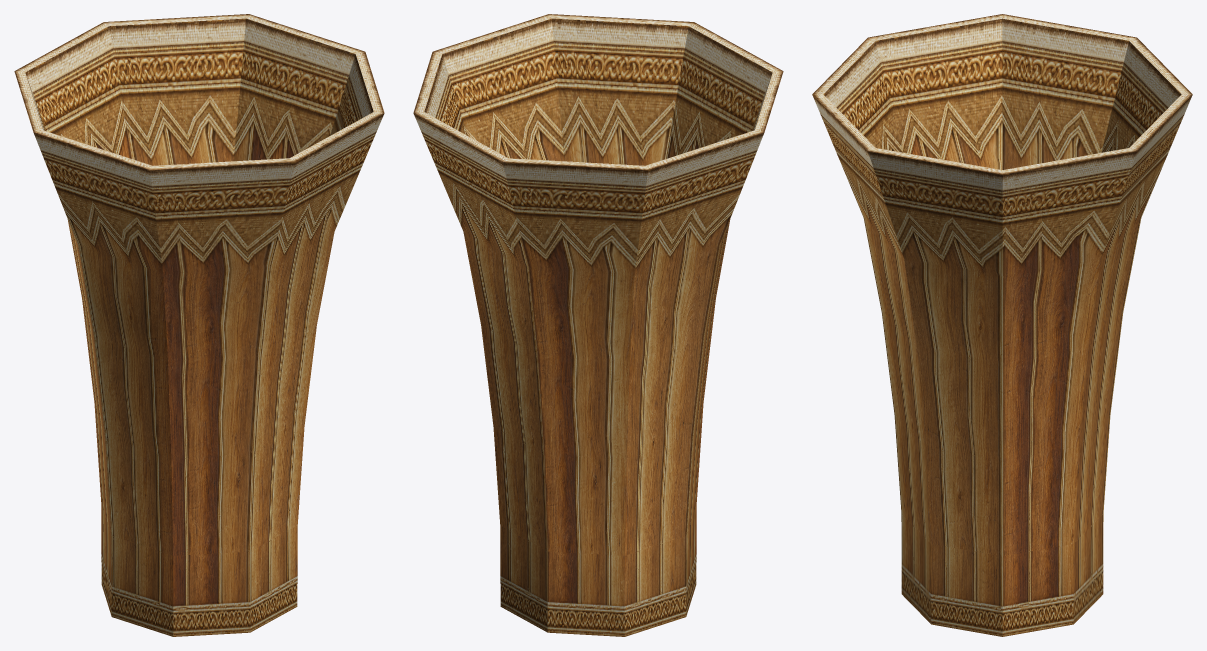
Rendered from mm9_deco_tumbler1.glb.
The picture shows the model from 3 angles, left to right: view 1: azimuth 30°, elevation 25°; view 2: azimuth 150°, elevation 25°; view 3: azimuth 270°, elevation 25°; orthographic projection.
Visible parts, largest first — view 1: Tumbler1; view 2: Tumbler1; view 3: Tumbler1.
Boxes of the visible parts, x1,y1,x2,y2 form: Tumbler1: [14, 14, 384, 636]; Tumbler1: [413, 14, 783, 636]; Tumbler1: [812, 14, 1192, 636].
Bounding box in the file's own units: 0.2744 × 0.3976 × 0.2744.
1 material, 1 textured.
